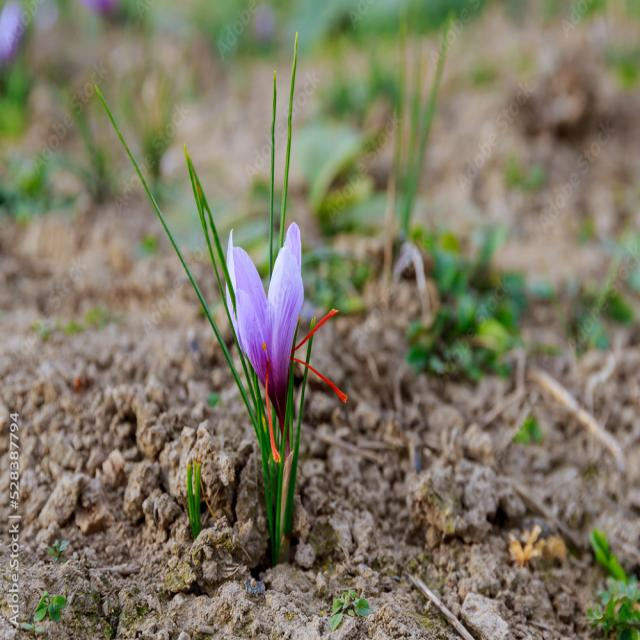saffron open: (226, 223, 304, 431)
